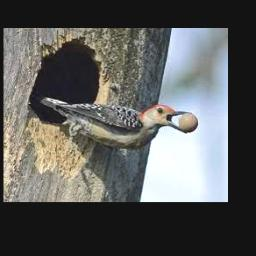Woodpecker: (40, 96, 192, 150)
